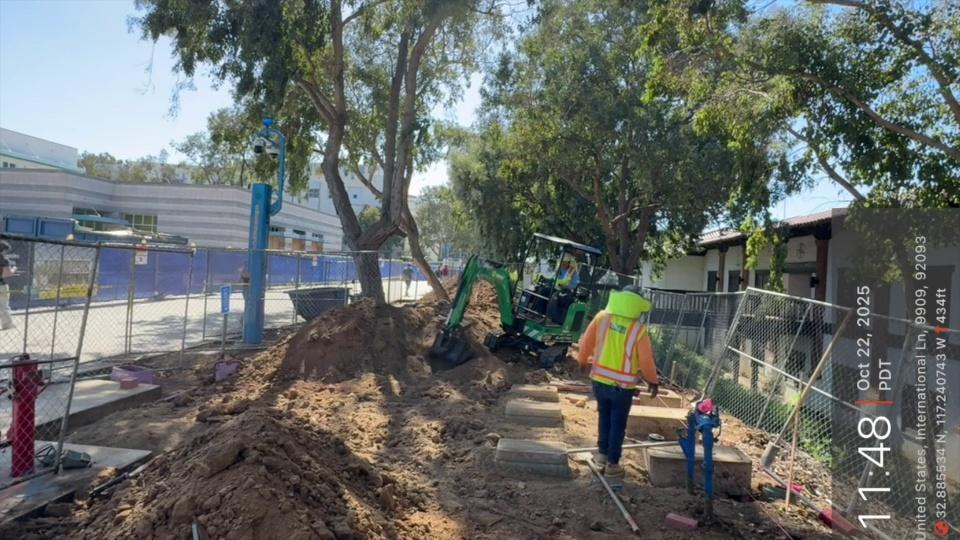Exacavator: (425, 230, 604, 373)
